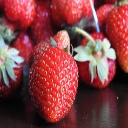strawberry: (27, 44, 81, 125), (75, 32, 118, 90), (0, 37, 25, 108)
